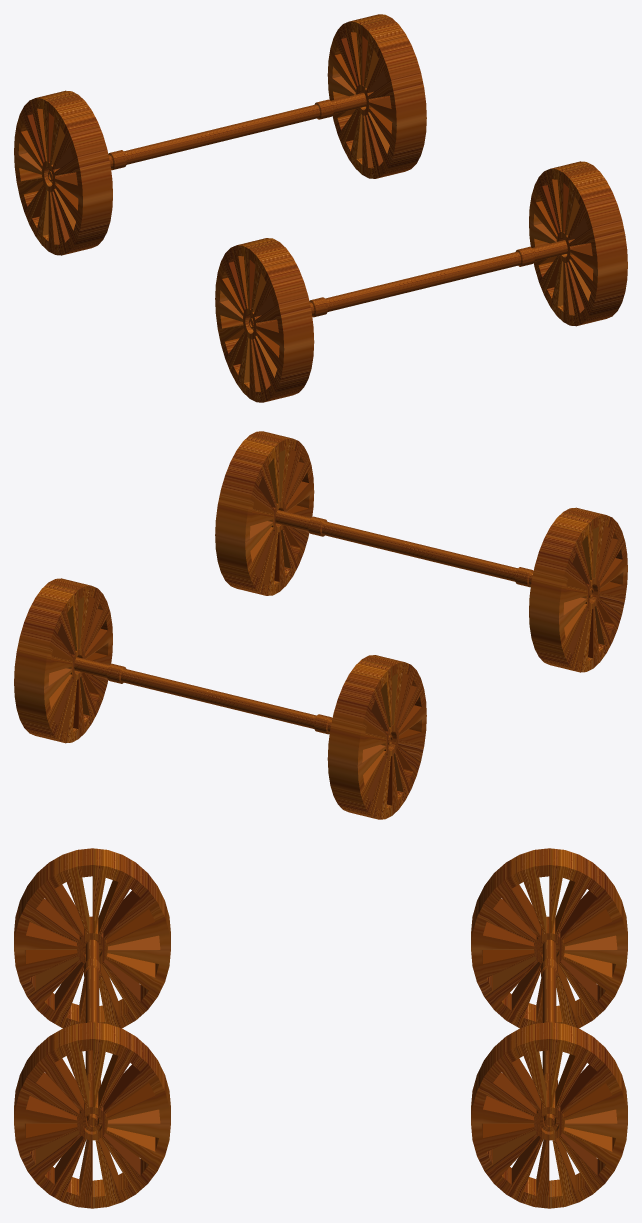
Rendered from wheel.obj.
The picture shows the model from 3 angles, top to bottom: view 1: azimuth 30°, elevation 25°; view 2: azimuth 150°, elevation 25°; view 3: azimuth 270°, elevation 25°; orthographic projection. The views are drawn at different scales.
Parts seen in each view (by area): view 1: Cylinder.003_Cylinder.000, Cylinder_Cylinder.001; view 2: Cylinder.003_Cylinder.000, Cylinder_Cylinder.001; view 3: Cylinder.003_Cylinder.000, Cylinder_Cylinder.001.
Part boxes in pixels (box(x1,y1,x2,y2)): Cylinder.003_Cylinder.000: box(14, 14, 426, 255); Cylinder_Cylinder.001: box(215, 161, 627, 402); Cylinder.003_Cylinder.000: box(14, 578, 426, 819); Cylinder_Cylinder.001: box(215, 431, 627, 672); Cylinder.003_Cylinder.000: box(471, 848, 627, 1208); Cylinder_Cylinder.001: box(14, 848, 170, 1208).
Bounding box in the file's own units: 2.64 × 1.1 × 3.59.
4 materials, 4 textured.
